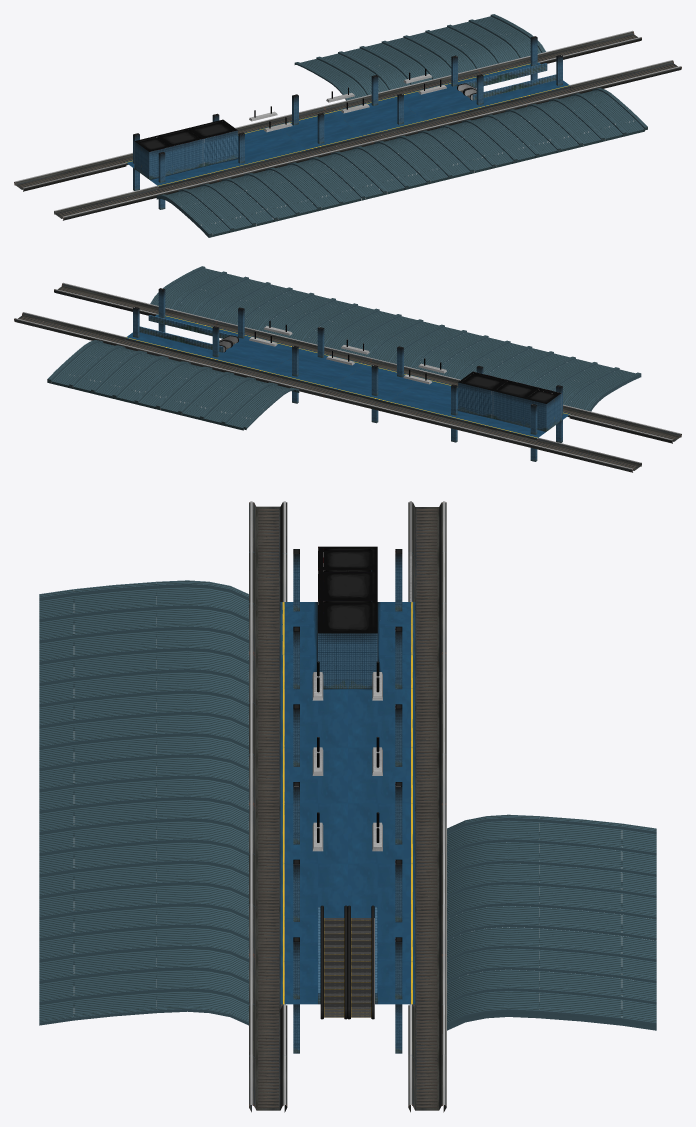
Rendered from mod_platform.fbx.
3 views of the same model, one above another, from view 1: azimuth 30°, elevation 25°; view 2: azimuth 150°, elevation 25°; view 3: azimuth 270°, elevation 25° (orthographic). The views are drawn at different scales.
Parts seen in each view (by area): view 1: polySurface21, polySurface35, polySurface37, polySurface10, polySurface631, polySurface1238, polySurface1291; view 2: polySurface21, polySurface35, polySurface10, polySurface37, polySurface631, polySurface1238, polySurface1291; view 3: polySurface21, polySurface35, polySurface10, polySurface37, polySurface631, polySurface1238, polySurface1289, polySurface1290, polySurface1291.
Part boxes in pixels (x1,y1,x2,y2): polySurface21: (156,88,647,237); polySurface35: (125,62,570,186); polySurface37: (14,30,681,220); polySurface10: (294,14,545,100); polySurface631: (19,35,675,216); polySurface1238: (133,36,562,209); polySurface1291: (249,68,446,132); polySurface21: (150,266,641,411); polySurface35: (125,314,570,438); polySurface10: (47,340,299,430); polySurface37: (14,282,681,472); polySurface631: (20,287,676,468); polySurface1238: (133,288,562,461); polySurface1291: (249,320,446,384); polySurface21: (39,580,248,1025); polySurface35: (280,546,415,1004); polySurface10: (447,814,656,1030); polySurface37: (249,501,446,1112); polySurface631: (258,509,437,1107); polySurface1238: (293,549,402,1053); polySurface1289: (320,905,347,1019); polySurface1290: (347,905,374,1019); polySurface1291: (312,661,382,851).
Size of the model in its own units: 192 by 16.61 by 83.06.
